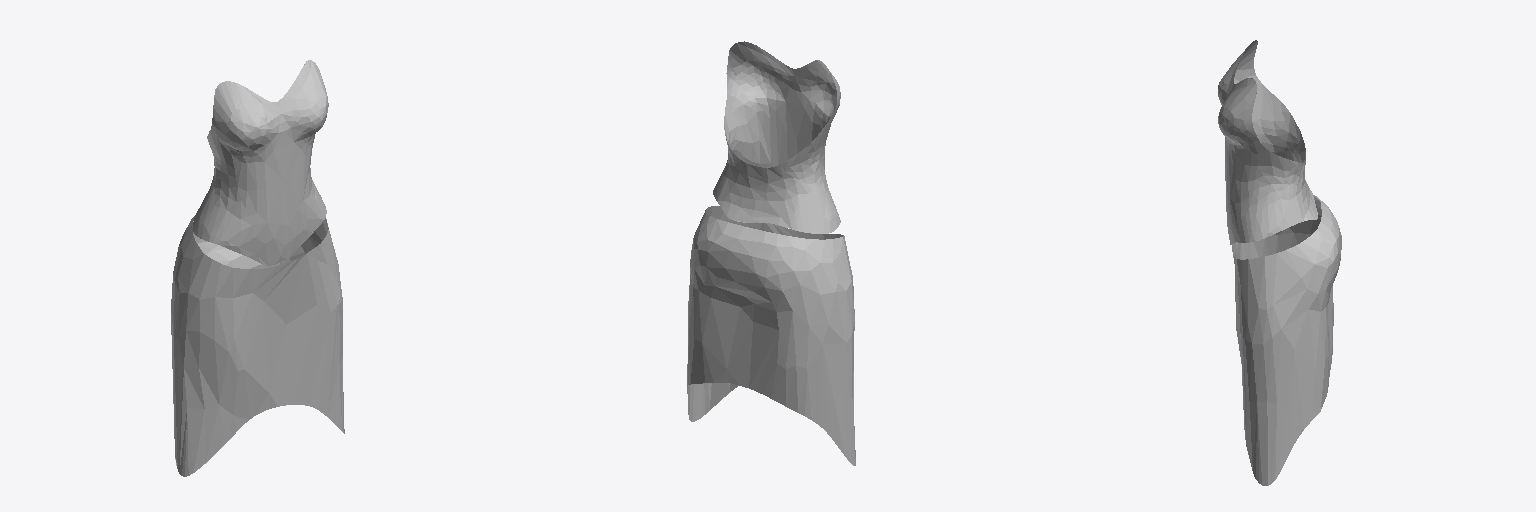
File: roupa.obj
3 renders of one model, left to right at view 1: azimuth 30°, elevation 25°; view 2: azimuth 150°, elevation 25°; view 3: azimuth 270°, elevation 25°, orthographic.
Visible parts, largest first — view 1: saia, top; view 2: saia, top; view 3: saia, top.
Part boxes in pixels (bbox=[...]): saia: bbox=[171, 216, 344, 476]; top: bbox=[193, 60, 328, 265]; saia: bbox=[687, 206, 855, 465]; top: bbox=[713, 41, 840, 233]; saia: bbox=[1232, 195, 1341, 485]; top: bbox=[1218, 40, 1317, 244].
Bounding box in the file's own units: 0.3509 × 0.8037 × 0.2309.